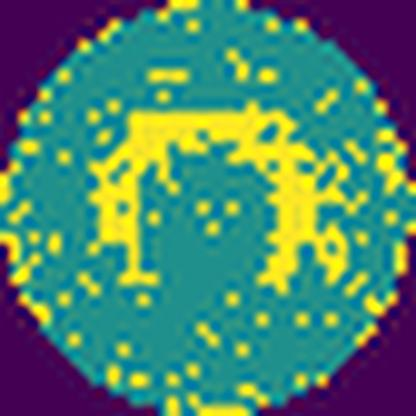Donut: (86, 104, 356, 308)
